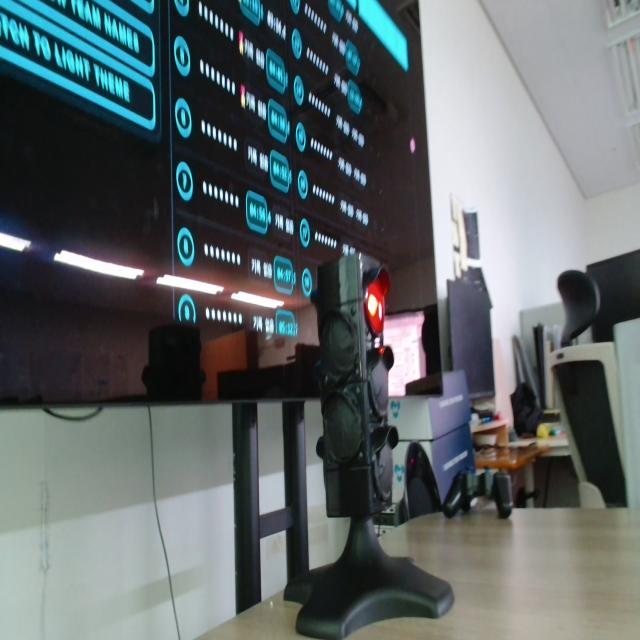red_light: (365, 270, 389, 336)
